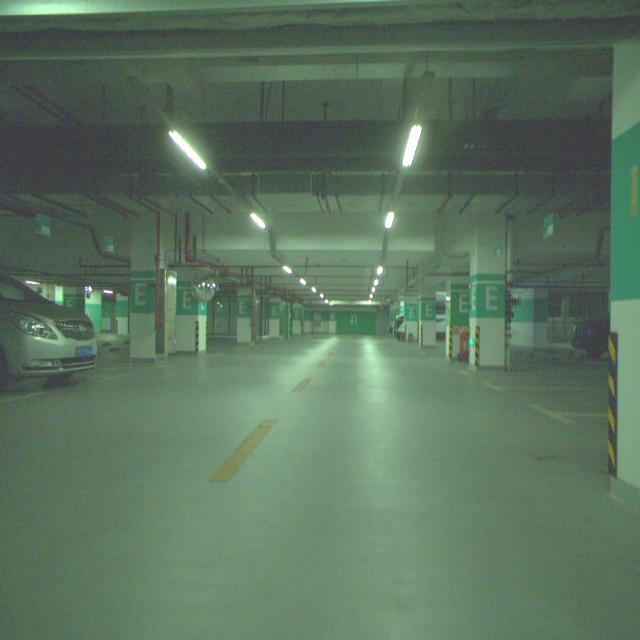pillar: (469, 214, 505, 367), (176, 267, 208, 353), (419, 295, 436, 347)
